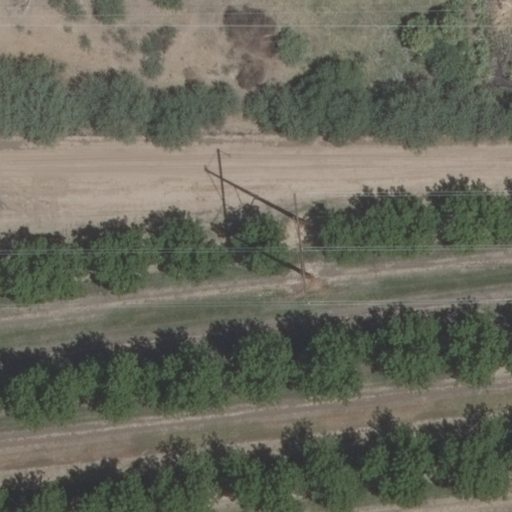TT: (205, 165, 321, 279)
